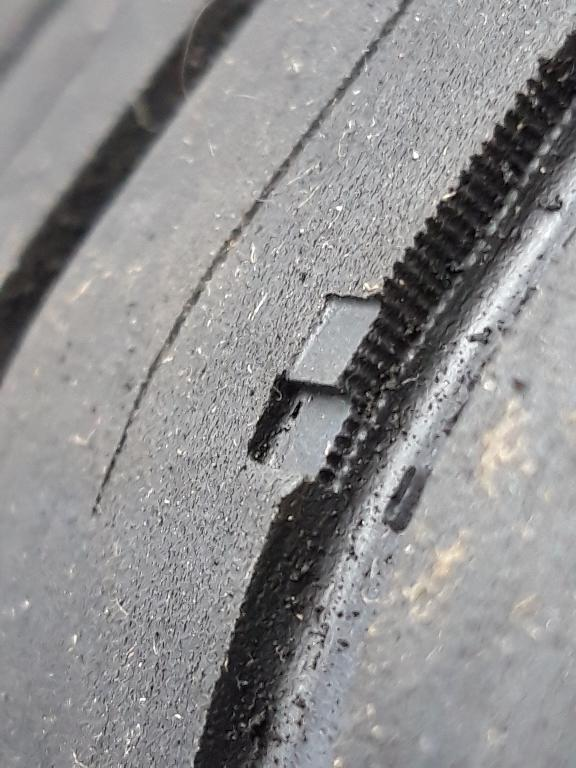temoin:25: (234, 275, 433, 509)
